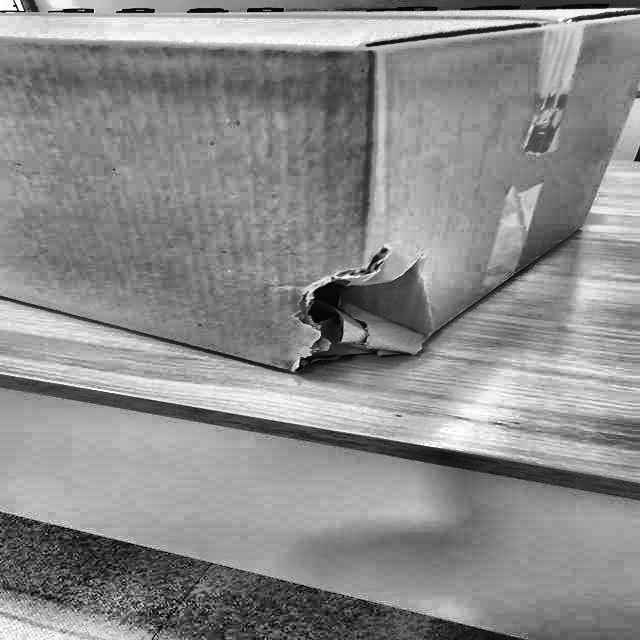box: (0, 0, 639, 386)
hole: (275, 245, 433, 375)
